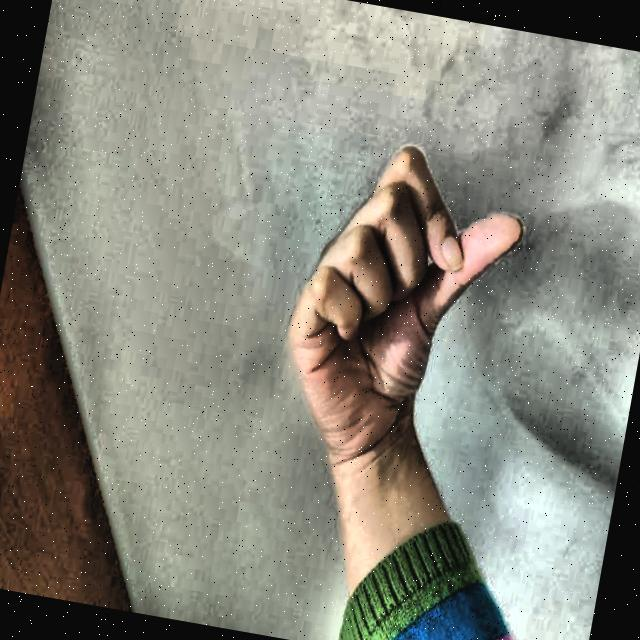Ay: (224, 102, 554, 500)
